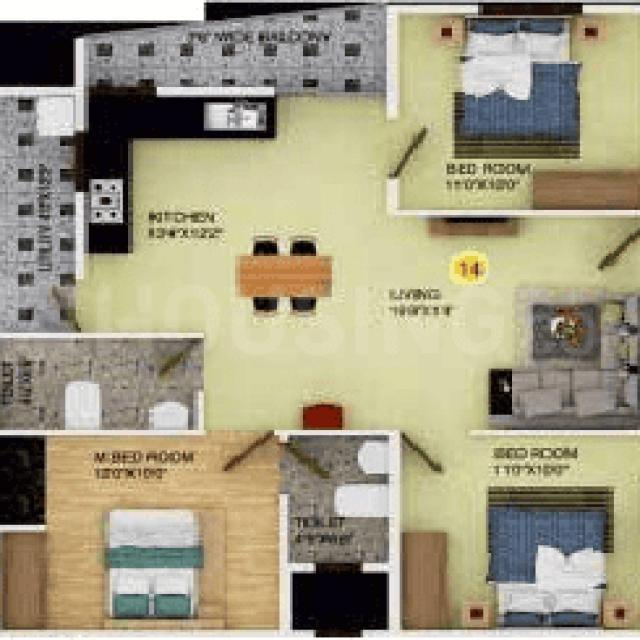Balcony-Sitout: (89, 25, 382, 85)
Bedroom: (400, 14, 638, 209), (401, 435, 638, 628)
Bedroom with Toilet: (44, 431, 393, 632)
Dining: (229, 233, 340, 320)
Enterance-Foyer: (583, 230, 640, 282)
Kitchen: (86, 94, 373, 330)
Living: (386, 216, 640, 429)
Toilet: (1, 340, 199, 429), (289, 436, 388, 563)
Utility: (0, 96, 75, 331)
